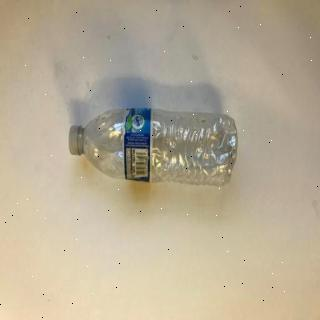Plastic-bottle: (67, 105, 244, 192)
